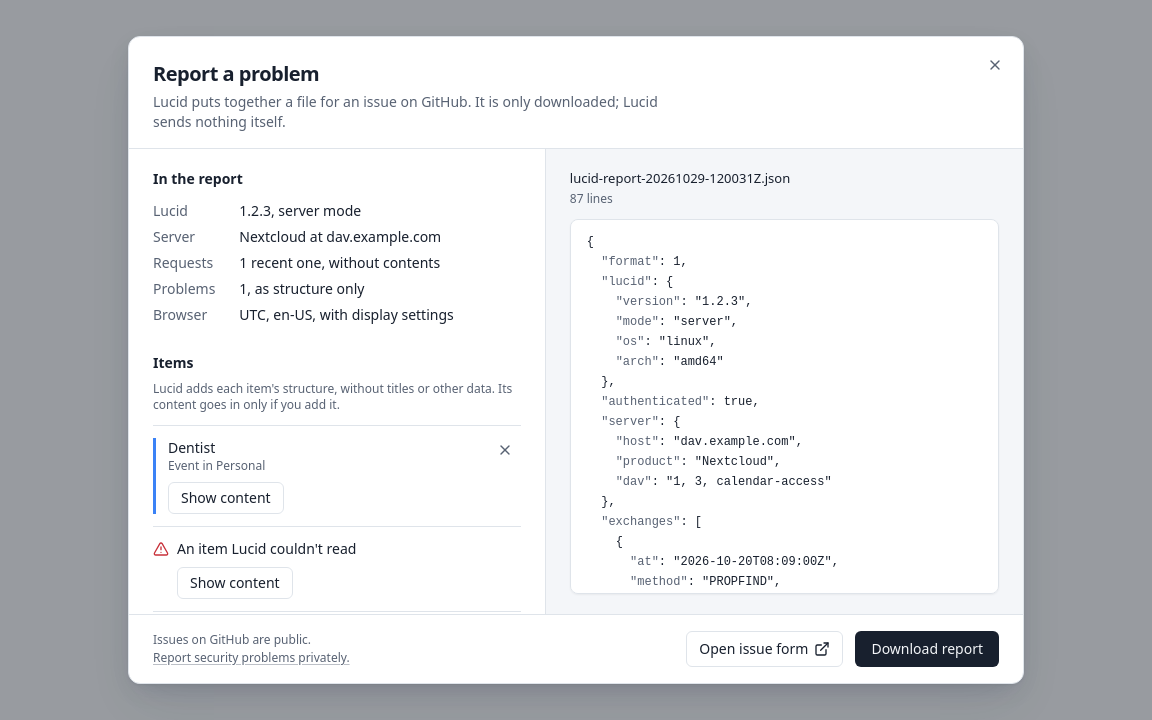
Test: ReportDialog (FR-36) › uses an event added to the report
The image size is (1152, 720).
Expected: the text "Event in Personal" is shown, [168, 457, 265, 474]
Click the button named "Remove Dentist from the report": click(505, 450) [489, 434, 521, 466]
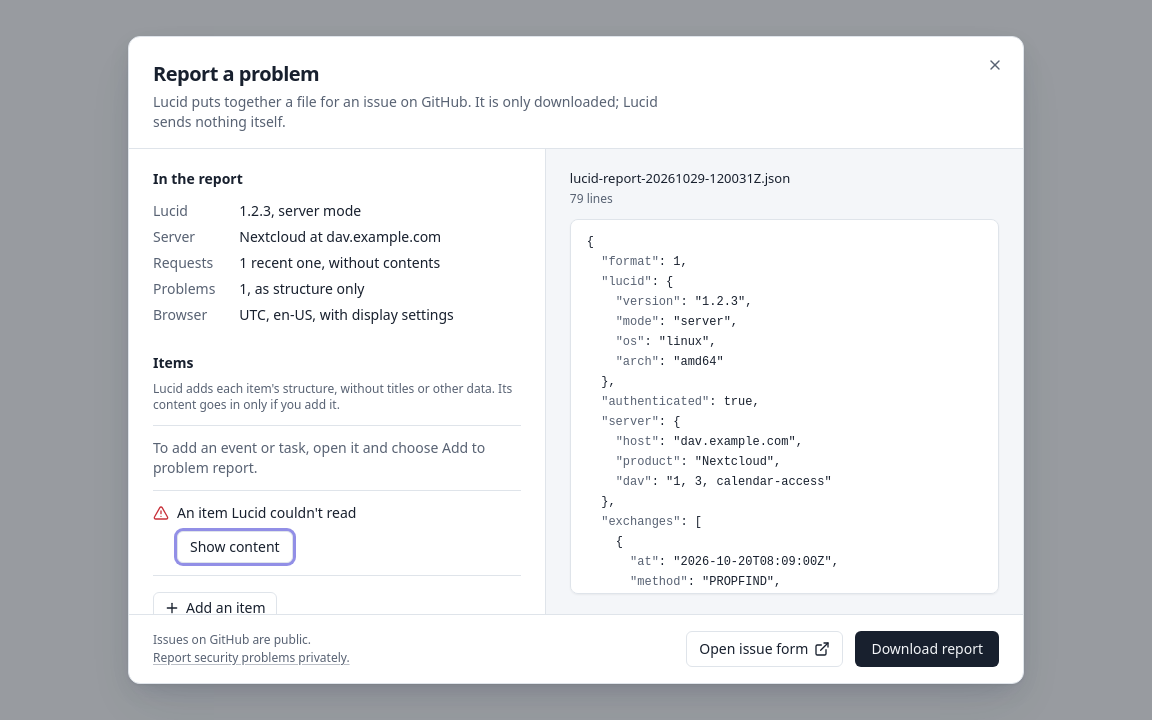
Result: the text "Dentist" is gone
Result: the list item "To add an event or task, open it and choose Add to problem report." is shown at [153, 426, 521, 491]
